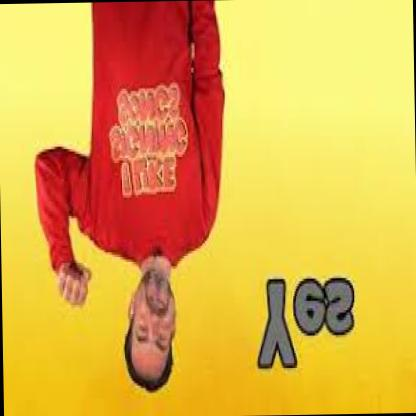yes: (48, 250, 96, 318)
